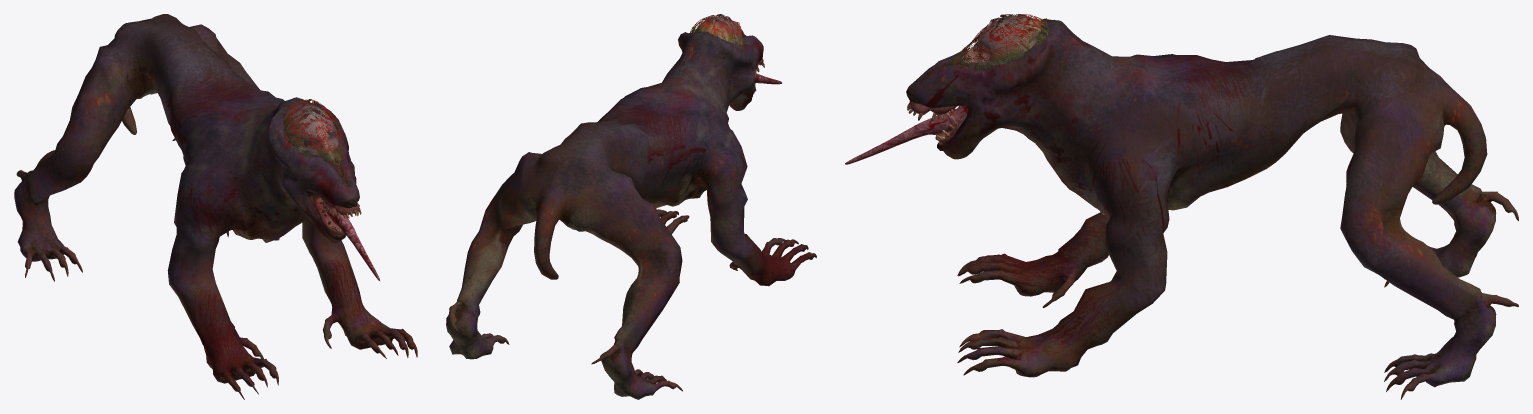
File: Bio Hound Game Ready.obj
3 views of the same model, side by side, from view 1: azimuth 30°, elevation 25°; view 2: azimuth 150°, elevation 25°; view 3: azimuth 270°, elevation 25° (orthographic). The views are drawn at different scales.
Parts seen in each view (by area): view 1: HOUND_HOUND.001; view 2: HOUND_HOUND.001; view 3: HOUND_HOUND.001.
Boxes of the visible parts, left/top/right/bottom form: HOUND_HOUND.001: left=14, top=14, right=417, bottom=399; HOUND_HOUND.001: left=446, top=14, right=816, bottom=399; HOUND_HOUND.001: left=845, top=14, right=1518, bottom=399.
Bounding box in the file's own units: 4.21 × 4.31 × 8.28.
